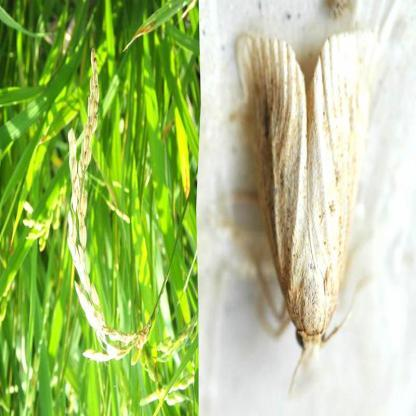stem-borer: (235, 31, 364, 380)
